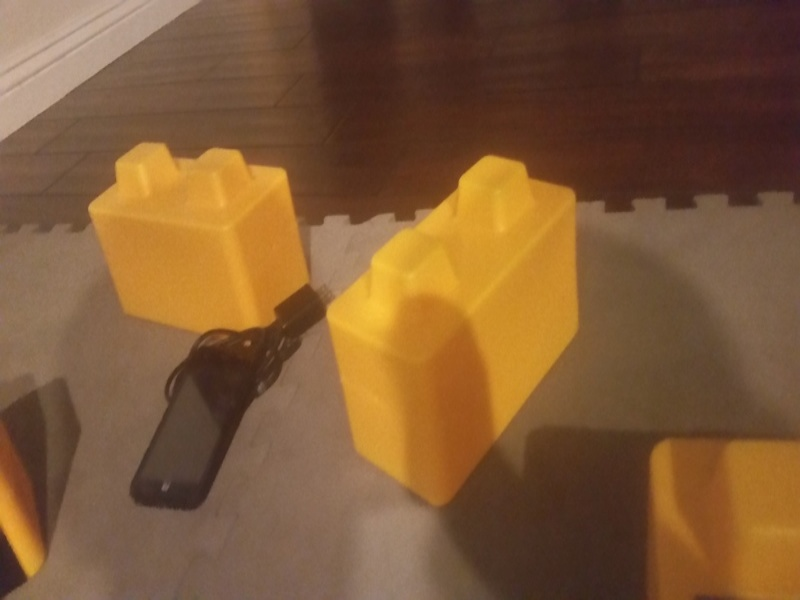Stone: (333, 156, 584, 510), (80, 134, 315, 340)
